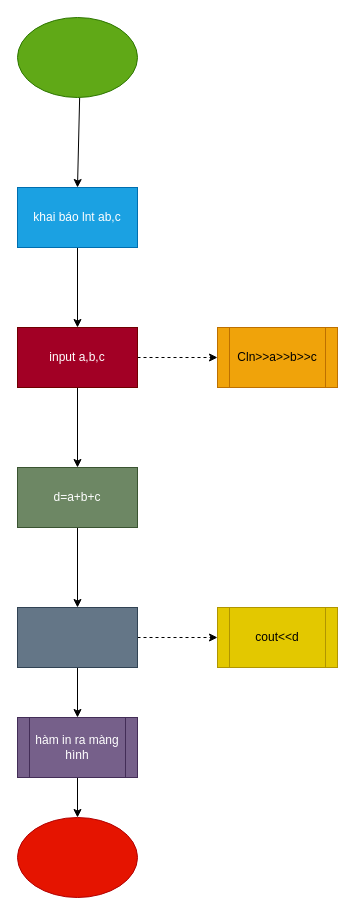
This 355x915 diagram has some shape labels left out. Here are the shapes that lost their labels. From the top down, the centre of each, then its label:
the point at 77,57: star
the point at 77,637: output d
the point at 77,857: end
